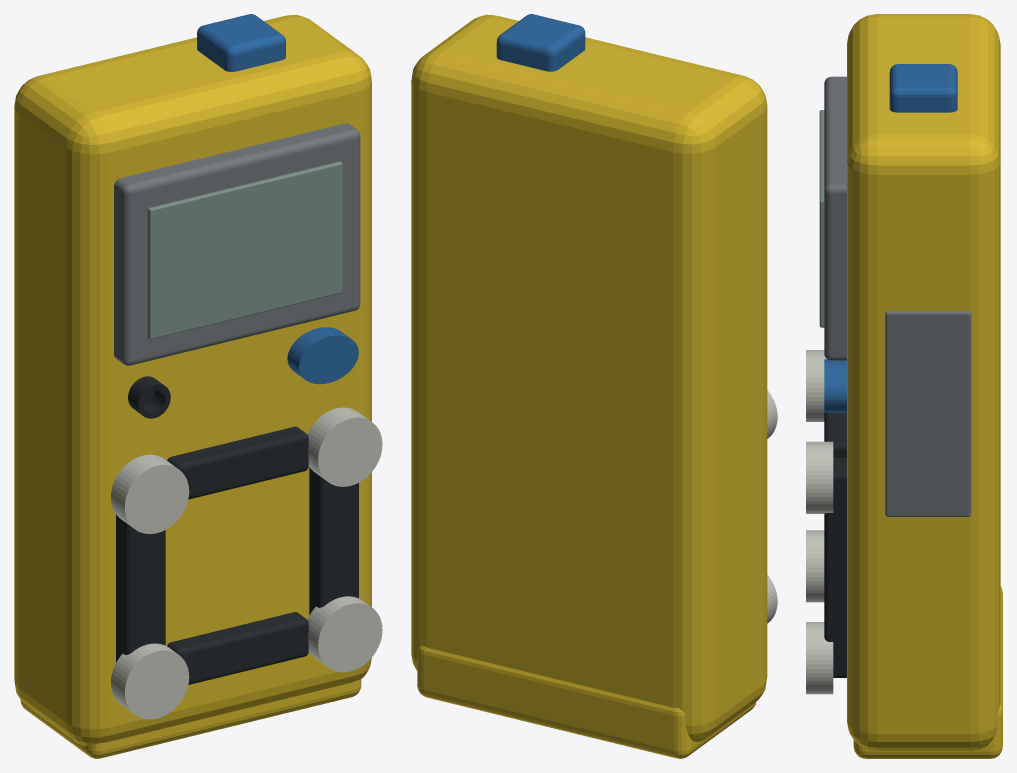
Rendered from full.fbx.
3 renders of one model, left to right at view 1: azimuth 30°, elevation 25°; view 2: azimuth 150°, elevation 25°; view 3: azimuth 270°, elevation 25°, orthographic. The views are drawn at different scales.
Parts seen in each view (by area): view 1: Detector main shell, Inset blank LCD, Gray display bezel, Lower surround side 1, Lower surround side -1, Interrupted surround cross 0.063, Interrupted surround cross 0.019, Pale circular sensor cover 2, Pale circular sensor cover 3, Pale circular sensor cover 0, Bottom bumper, Pale circular sensor cover 1 (+3 smaller); view 2: Detector main shell, Bottom bumper, Small blue top projection; view 3: Detector main shell, Narrow side inset, Gray display bezel, Lower surround side 1, Small blue top projection, Pale circular sensor cover 3, Bottom bumper, Pale circular sensor cover 1, Pale circular sensor cover 0, Pale circular sensor cover 2, Inset blank LCD, Blue oval button (+1 smaller).
Part boxes in pixels (x1,y1,x2,y2): Detector main shell: (14, 14, 371, 745); Inset blank LCD: (147, 161, 342, 339); Gray display bezel: (114, 123, 360, 365); Lower surround side 1: (309, 467, 358, 615); Lower surround side -1: (116, 514, 165, 662); Interrupted surround cross 0.063: (167, 426, 308, 499); Interrupted surround cross 0.019: (167, 612, 308, 684); Pale circular sensor cover 2: (111, 454, 189, 533); Pale circular sensor cover 3: (307, 407, 382, 486); Pale circular sensor cover 0: (111, 643, 189, 719); Bottom bumper: (20, 679, 361, 758); Pale circular sensor cover 1: (307, 596, 382, 672); Detector main shell: (411, 14, 767, 742); Bottom bumper: (417, 645, 755, 758); Small blue top projection: (496, 14, 585, 71); Detector main shell: (847, 14, 1000, 751); Narrow side inset: (885, 311, 971, 516); Gray display bezel: (824, 76, 846, 360); Lower surround side 1: (824, 457, 846, 677); Small blue top projection: (889, 64, 957, 112); Pale circular sensor cover 3: (806, 441, 833, 513); Bottom bumper: (853, 586, 1002, 758); Pale circular sensor cover 1: (806, 622, 833, 694); Pale circular sensor cover 0: (806, 530, 824, 602); Pale circular sensor cover 2: (806, 350, 826, 421); Inset blank LCD: (819, 110, 824, 327); Blue oval button: (824, 359, 846, 412).
Bounding box in the file's own units: 7.6 × 15.75 × 4.35.
